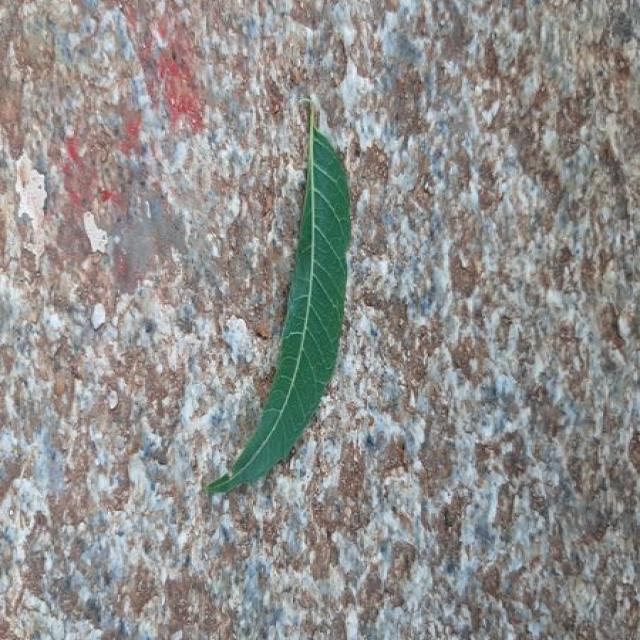neem: (207, 111, 350, 492)
